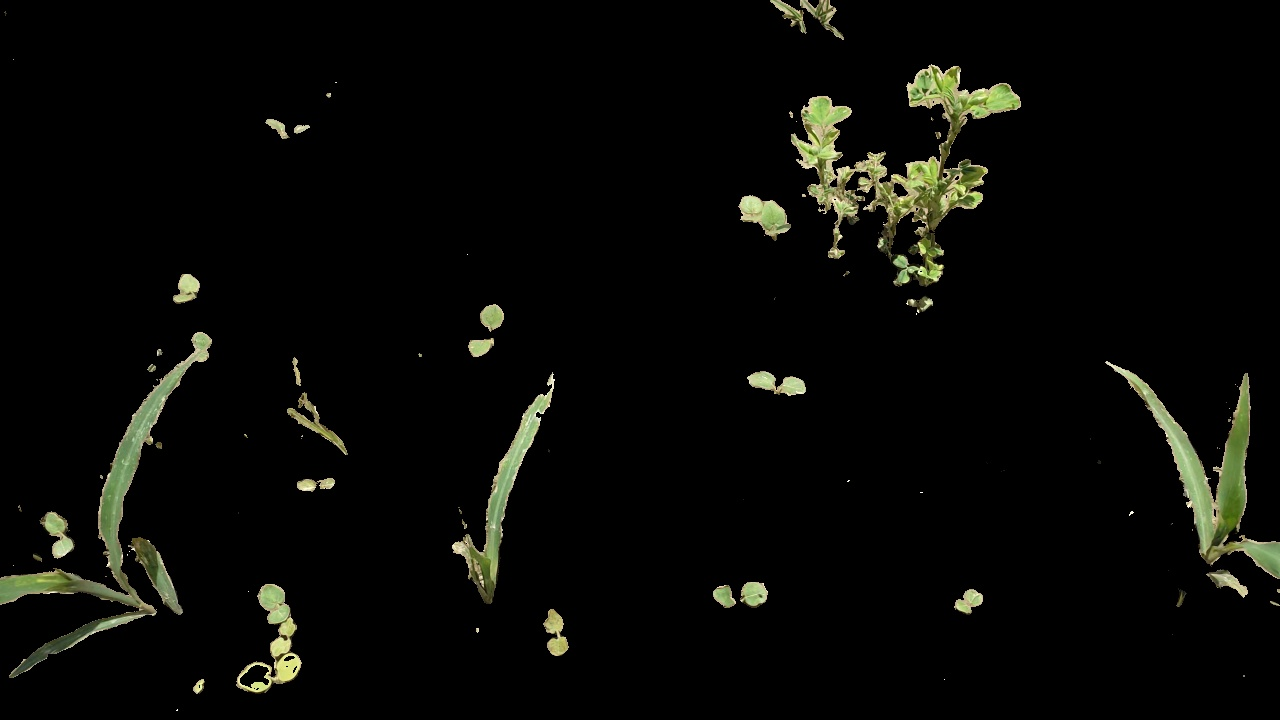crop: (1106, 360, 1280, 604), (85, 351, 199, 637), (438, 379, 555, 606)
weed: (793, 42, 1035, 321), (236, 574, 301, 695), (725, 185, 789, 247), (455, 303, 514, 363), (745, 361, 810, 402), (40, 502, 76, 565), (260, 106, 317, 145), (708, 577, 770, 610), (536, 610, 574, 659), (170, 269, 206, 311), (949, 587, 987, 621)
